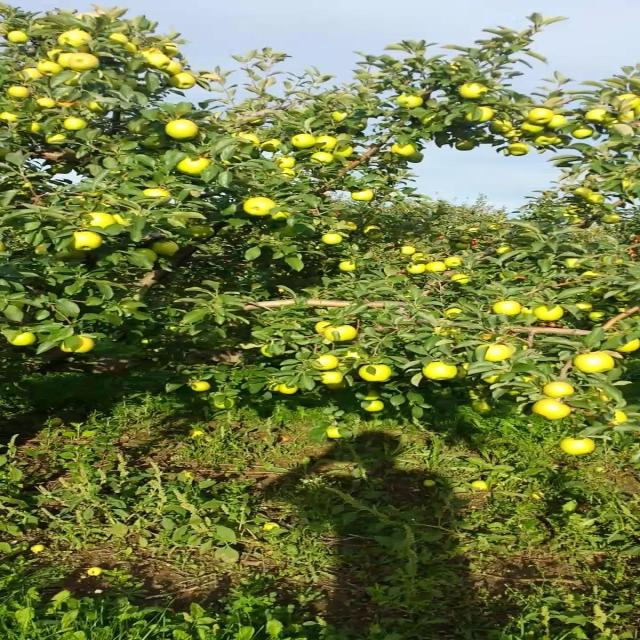apple: (573, 352, 616, 374), (531, 398, 571, 420), (242, 196, 278, 216), (422, 361, 458, 380), (164, 119, 198, 139), (67, 52, 100, 71), (58, 29, 91, 48), (560, 438, 596, 455), (60, 335, 96, 352), (542, 381, 576, 398), (322, 325, 358, 341), (358, 364, 391, 381), (176, 158, 211, 174), (73, 231, 102, 250), (458, 82, 489, 99), (533, 305, 564, 321), (491, 300, 522, 316), (484, 344, 511, 362), (144, 50, 171, 68), (151, 240, 180, 256), (464, 106, 493, 122), (171, 72, 198, 89), (129, 248, 158, 263), (313, 354, 340, 370), (89, 212, 116, 228), (396, 94, 424, 109), (527, 108, 553, 124), (291, 134, 316, 149), (584, 108, 609, 123), (53, 250, 87, 261), (616, 94, 640, 109), (616, 104, 636, 122), (11, 332, 36, 346), (489, 120, 513, 134), (507, 142, 531, 156), (236, 131, 260, 145), (189, 225, 213, 239), (316, 135, 338, 150), (127, 119, 149, 134), (571, 126, 596, 139), (609, 410, 629, 426), (533, 135, 562, 146), (616, 339, 640, 352), (38, 61, 62, 74), (520, 121, 544, 134), (589, 388, 611, 402), (62, 118, 87, 130), (391, 144, 416, 156), (162, 60, 182, 75), (160, 42, 180, 57), (142, 188, 171, 198), (360, 400, 384, 412), (311, 151, 333, 164), (260, 139, 282, 152), (273, 384, 298, 395), (433, 326, 460, 336), (7, 30, 29, 42), (7, 86, 29, 98), (189, 380, 211, 392), (320, 371, 342, 383), (351, 189, 373, 201), (571, 186, 593, 198), (20, 68, 44, 79), (276, 156, 296, 169), (322, 232, 342, 245), (547, 115, 567, 128), (333, 145, 353, 158), (44, 134, 67, 145), (213, 398, 236, 409), (36, 98, 58, 109), (120, 300, 142, 311), (442, 256, 462, 268), (584, 192, 604, 204), (471, 400, 491, 412), (404, 151, 424, 163), (451, 272, 471, 284), (58, 52, 73, 68), (47, 49, 67, 61), (420, 112, 438, 125), (324, 381, 347, 391), (456, 140, 476, 151), (427, 261, 447, 272), (407, 264, 427, 275), (600, 214, 622, 224), (442, 308, 462, 319), (109, 32, 127, 44), (114, 214, 131, 226), (602, 119, 622, 129), (338, 260, 356, 271), (618, 110, 636, 121), (564, 258, 582, 269), (0, 111, 18, 122), (620, 179, 638, 190), (362, 390, 380, 401), (64, 74, 80, 86), (482, 374, 501, 384), (87, 101, 104, 112), (400, 245, 418, 255), (316, 321, 331, 333), (504, 129, 522, 139), (271, 211, 291, 220), (613, 291, 631, 301), (331, 111, 347, 122), (33, 244, 49, 255), (618, 306, 640, 314), (576, 301, 593, 311), (496, 244, 513, 254), (47, 49, 64, 59), (260, 345, 273, 358), (327, 426, 340, 439), (362, 225, 380, 234), (280, 168, 296, 178), (122, 42, 138, 52), (411, 252, 427, 262), (589, 311, 604, 321), (520, 374, 538, 382), (340, 221, 358, 229), (344, 351, 362, 359), (582, 270, 600, 278), (564, 205, 578, 215), (276, 285, 289, 294), (567, 205, 580, 214), (487, 224, 500, 230)
